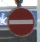No entry: (6, 6, 35, 37)
